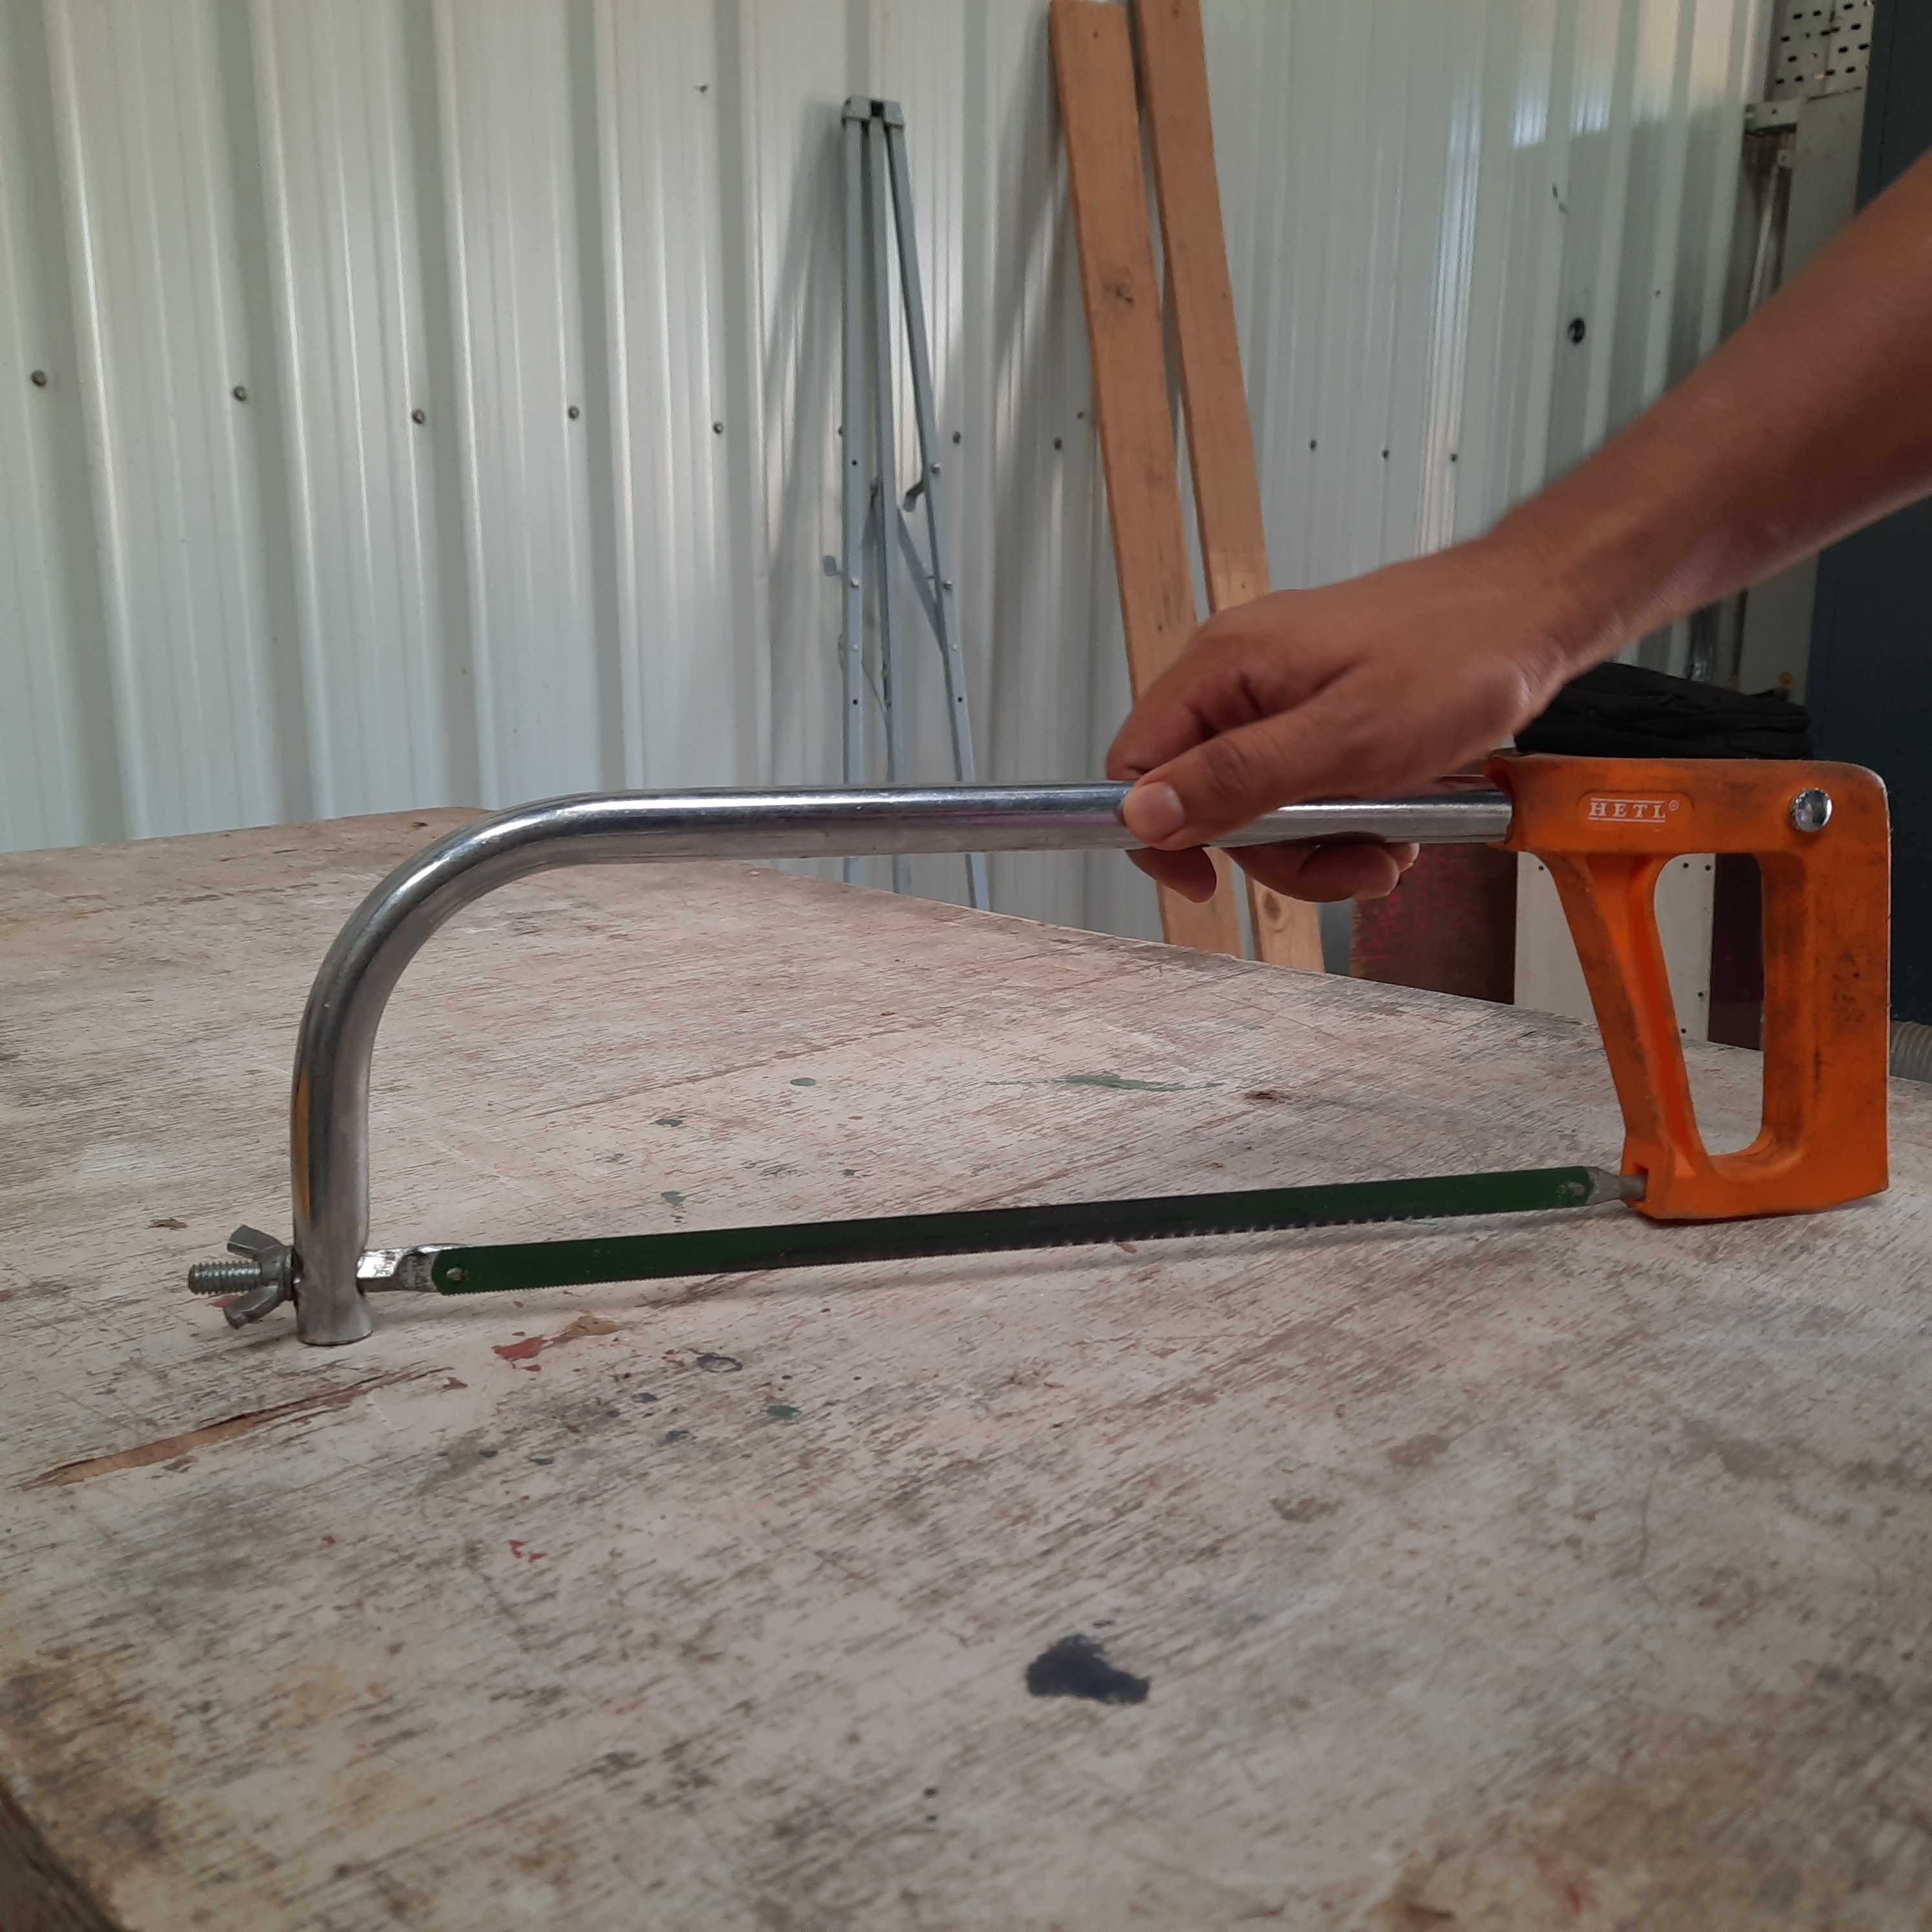Hexaframe: (177, 761, 1911, 1334)
